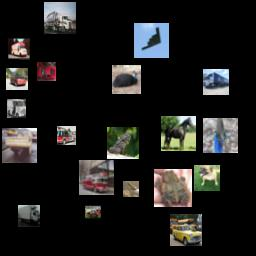airplane: (134, 23, 169, 58), (123, 181, 139, 197), (85, 204, 101, 220)
automobile: (170, 214, 202, 246), (6, 68, 28, 90), (37, 62, 56, 81)
bird: (203, 118, 238, 153), (112, 65, 141, 94)
dog: (194, 165, 220, 191)
frog: (154, 169, 192, 207), (107, 127, 139, 159)
truck: (79, 160, 114, 195), (2, 128, 37, 163), (44, 2, 76, 34), (203, 69, 229, 95), (18, 205, 40, 227), (8, 38, 30, 60), (7, 99, 26, 118), (57, 126, 76, 145)
